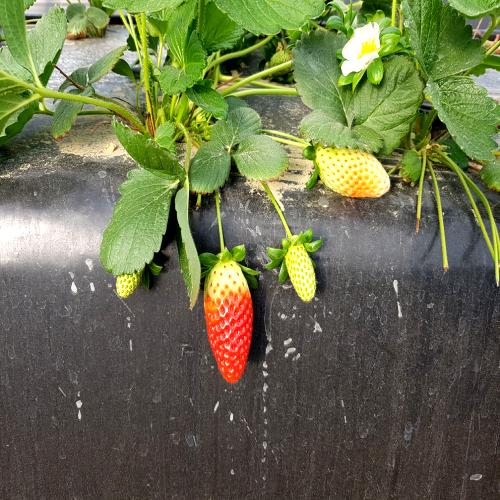partially-ripe: (206, 245, 258, 398)
